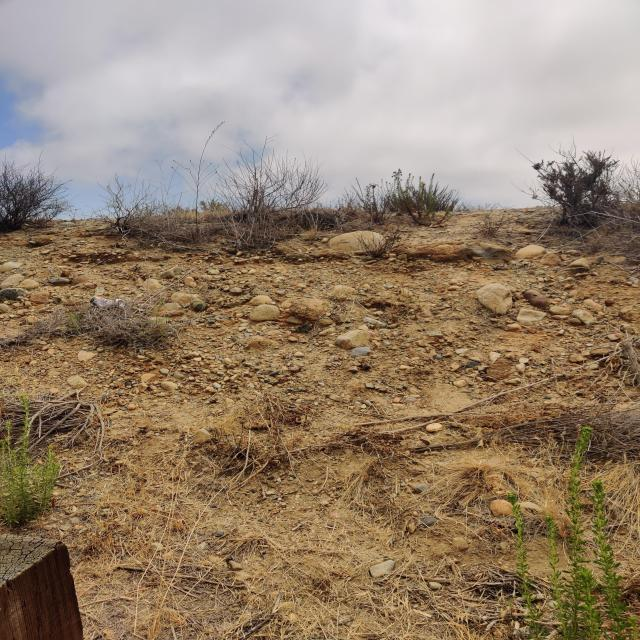litter: (89, 296, 125, 312)
